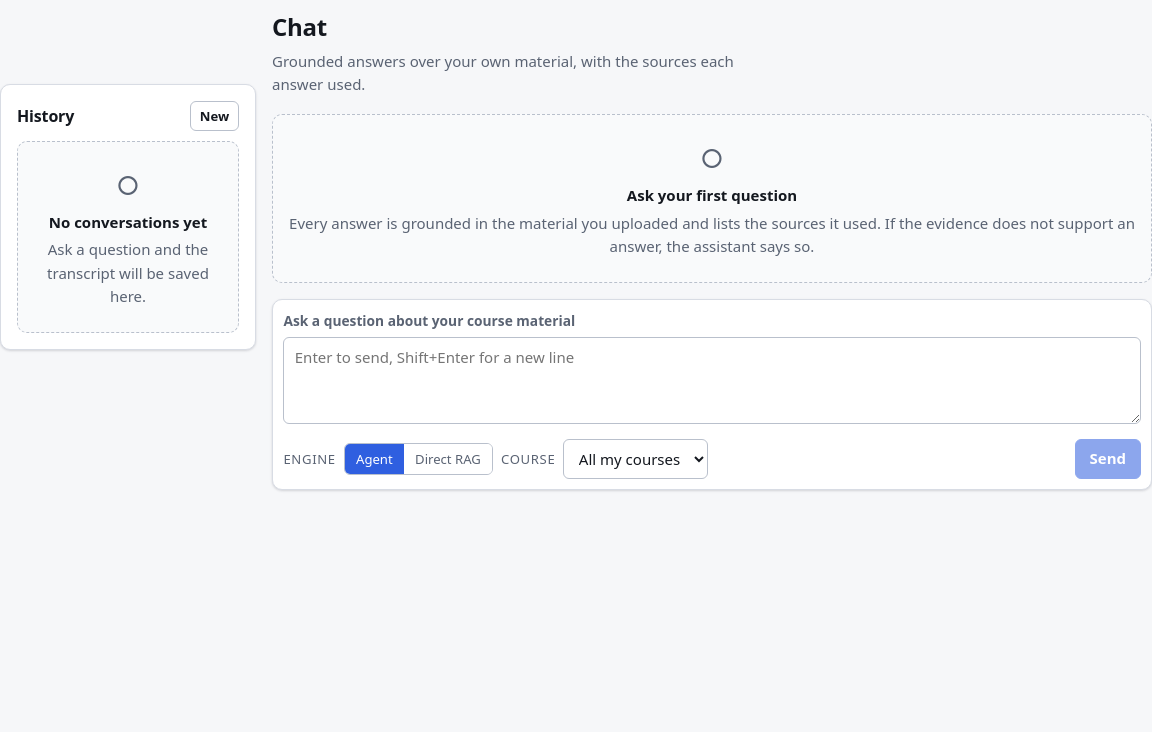
Test case: chat streaming › shows the degraded banner when the terminal event reports a weakened answer
The width and height of the screenshot is (1152, 732).
Type "Why is the answer weaker?" into the text box labelled "Ask a question about your course material" at (712, 380), box [283,337,1141,424]
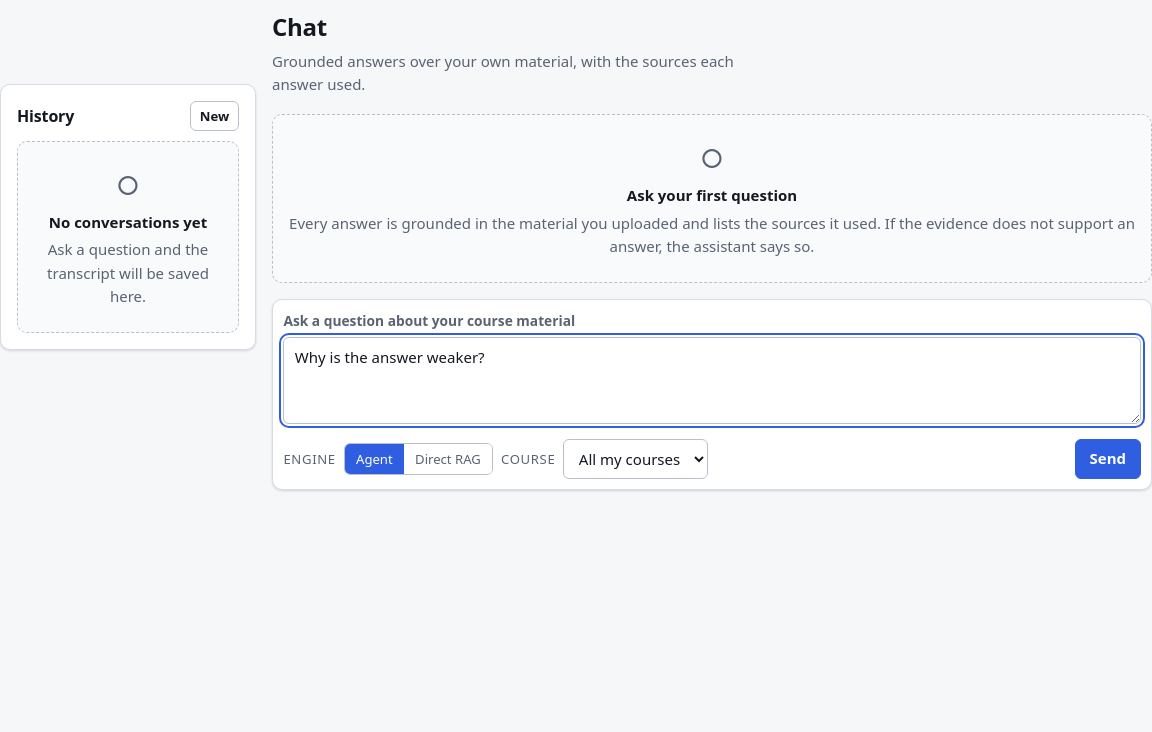
Click the button "Send" at (1108, 459), box [1075,439,1141,478]
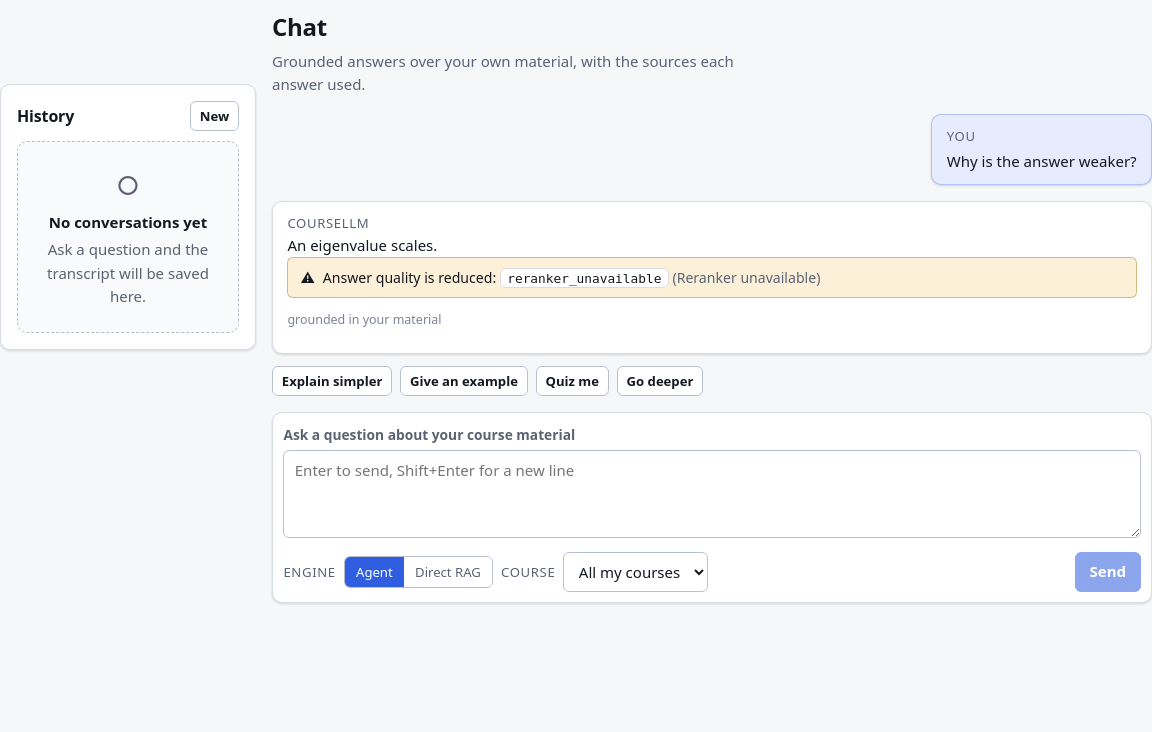
Result: the text "reranker_unavailable" is shown at [500,268,669,288]
Result: the text "Answer quality is reduced" is shown at [323,268,496,287]
